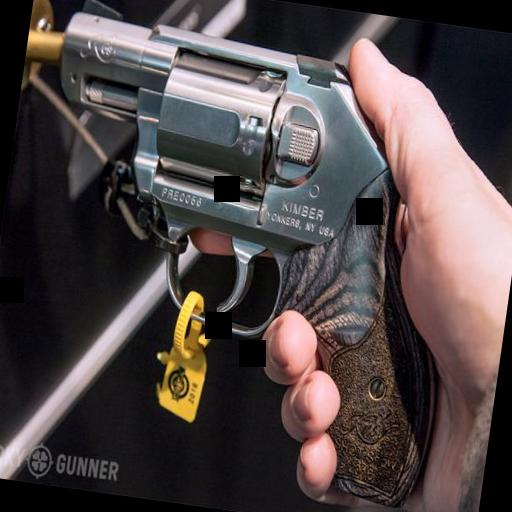Handgun: (4, 0, 485, 508)
